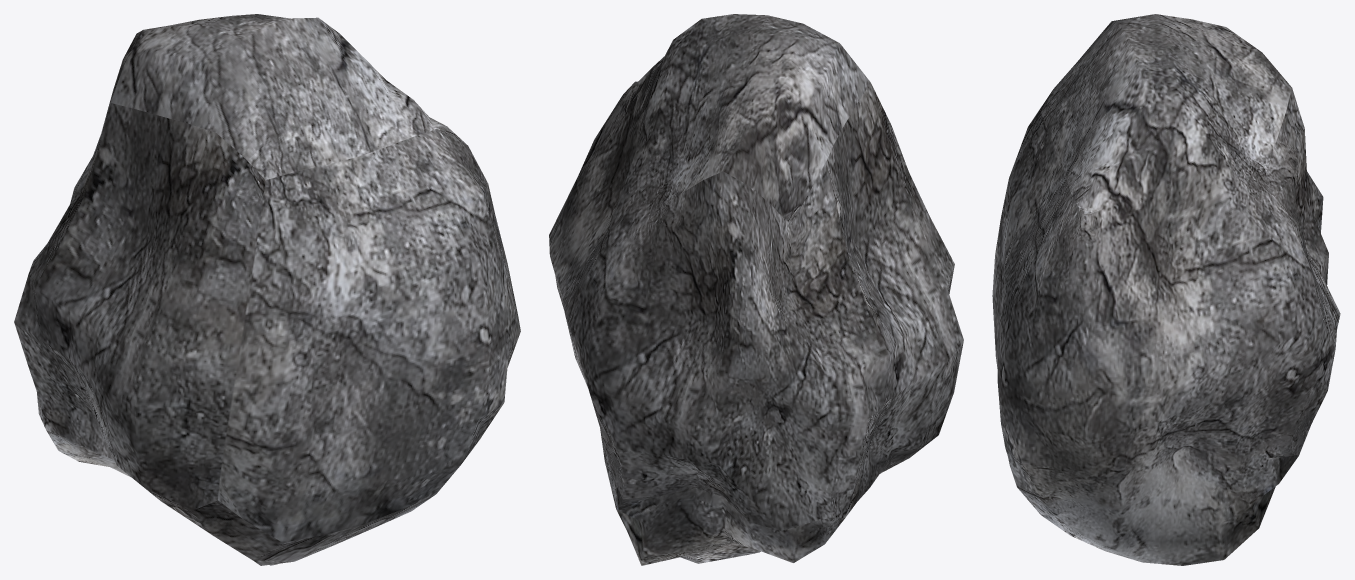
The model's file is asteroid5.glb.
The picture shows the model from 3 angles, left to right: view 1: azimuth 30°, elevation 25°; view 2: azimuth 150°, elevation 25°; view 3: azimuth 270°, elevation 25°; orthographic projection. The views are drawn at different scales.
Visible parts, largest first — view 1: Cube.040; view 2: Cube.040; view 3: Cube.040.
Part boxes in pixels (<box>): Cube.040: <box>14,14,520,565</box>; Cube.040: <box>549,14,963,565</box>; Cube.040: <box>992,14,1340,565</box>.
Bounding box in the file's own units: 14.47 × 18.51 × 11.67.
1 material, 1 textured.
